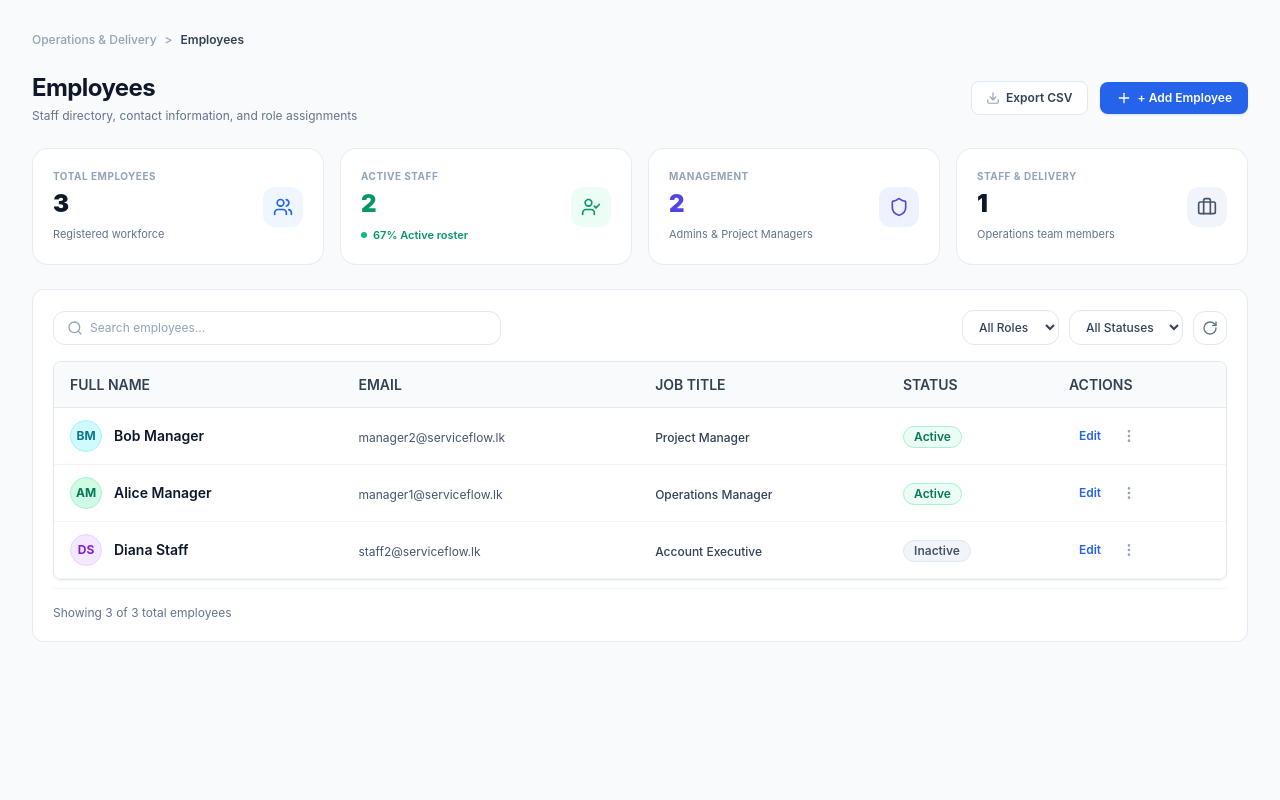
EmployeeList Component Redesign › opens employee modal on Add Employee and on Edit click
What coordinates should you click on to do the following:
click the button "+ Add Employee"
I would click on:
 (1174, 98)
Its box is [1100,82,1248,114].
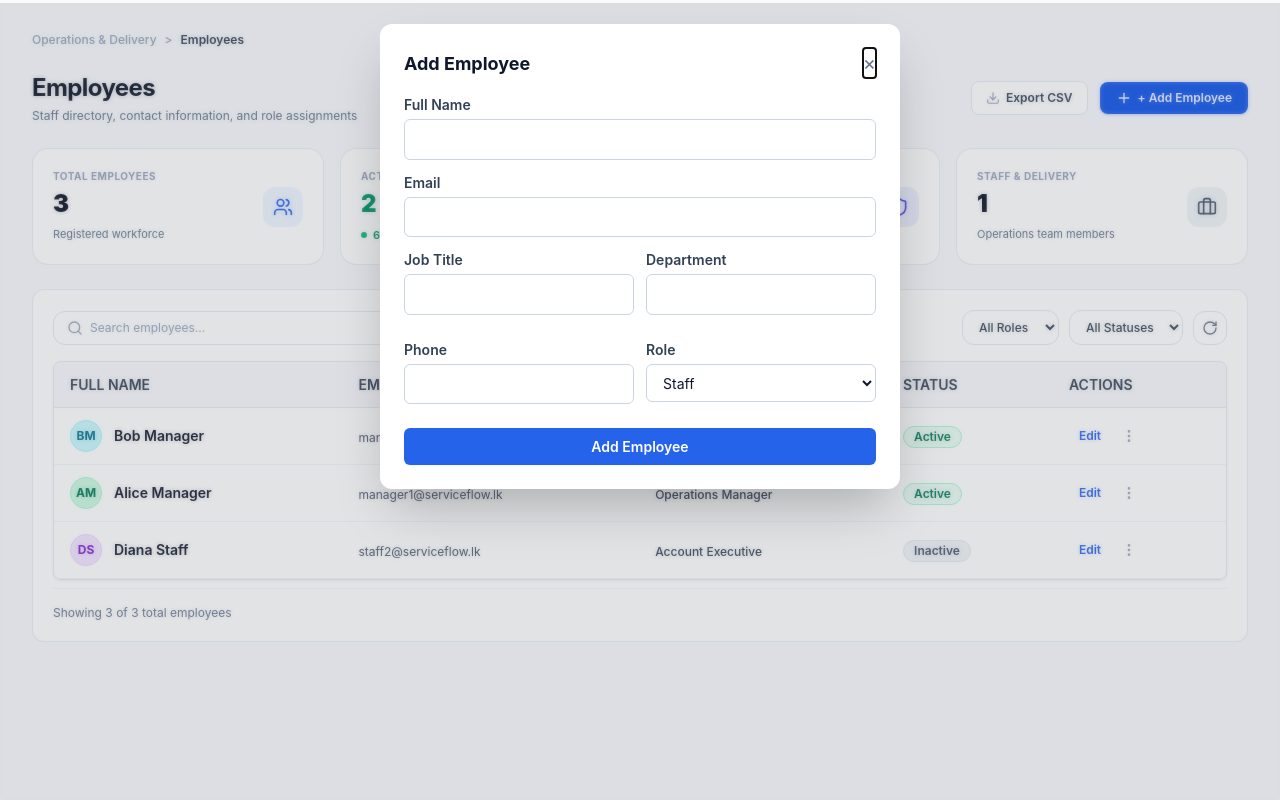
Expected: the heading "Add Employee" is shown, [404,50,530,76]
